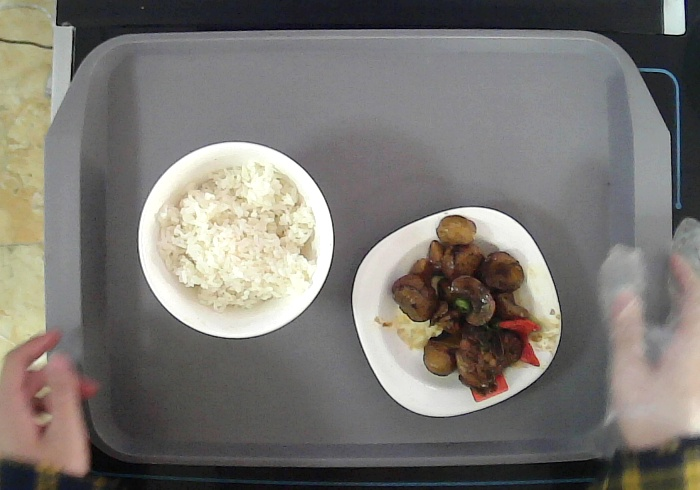SHKJ-Bai_Se_Si_Fang_Cai_Die: (351, 207, 563, 417)
SHKJ-Fan_Wan: (137, 141, 334, 338)
